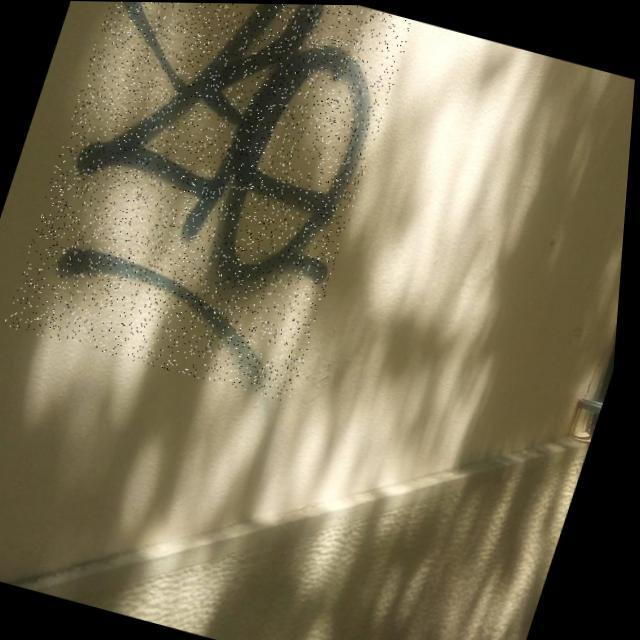-: (4, 0, 415, 403)
